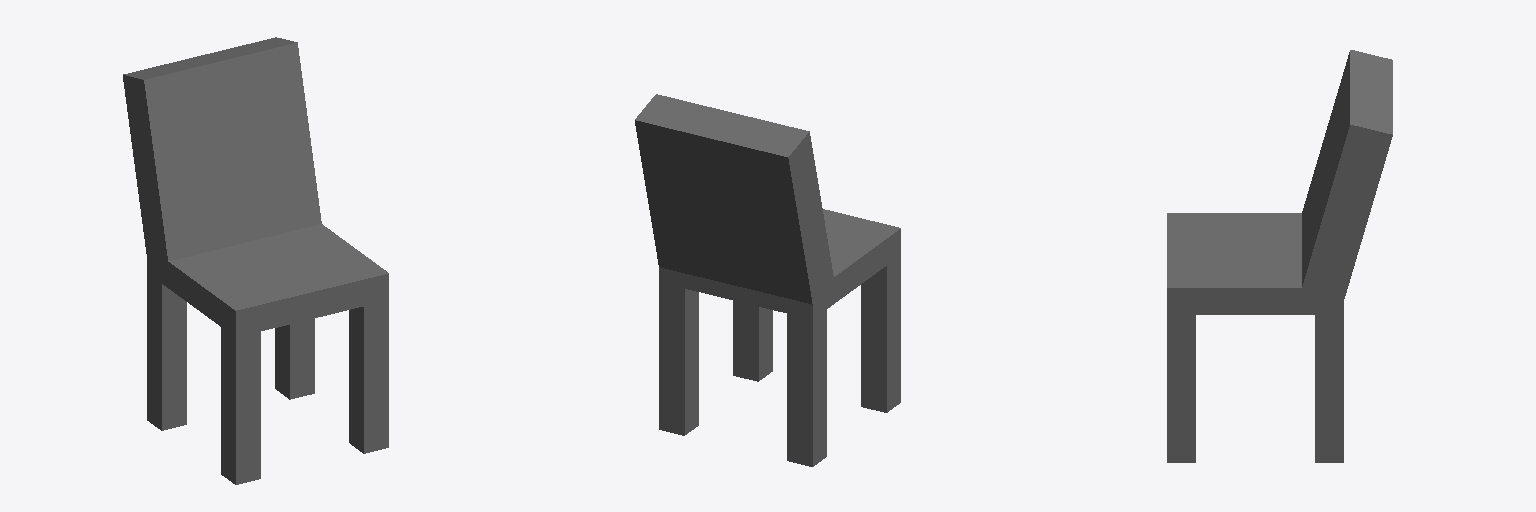
3 renders of one model, left to right at view 1: azimuth 30°, elevation 25°; view 2: azimuth 150°, elevation 25°; view 3: azimuth 270°, elevation 25°, orthographic.
Visible parts, largest first — view 1: cube; view 2: cube; view 3: cube.
Part boxes in pixels (x1,y1,x2,y2): cube: (123,37,388,484); cube: (635,94,900,466); cube: (1167,50,1392,462).
Bounding box in the file's own units: 0.75 × 1.58 × 0.956.
1 materials, 1 textured.